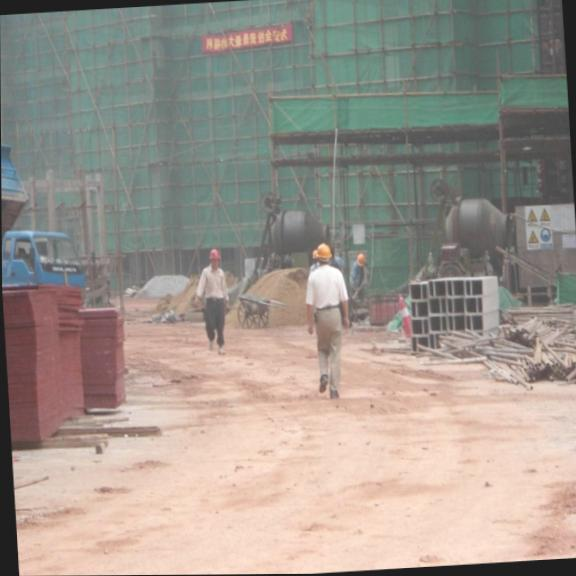no_safety_vest: (306, 266, 345, 317), (192, 267, 228, 301)
